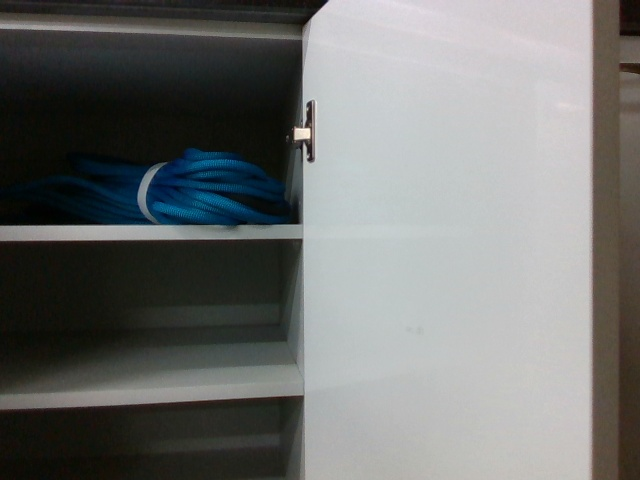rope: (47, 152, 281, 229)
